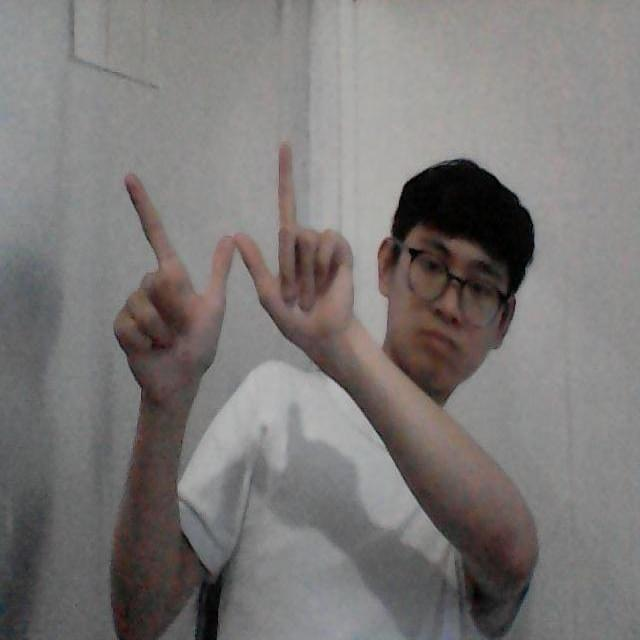W: (100, 142, 364, 400)
